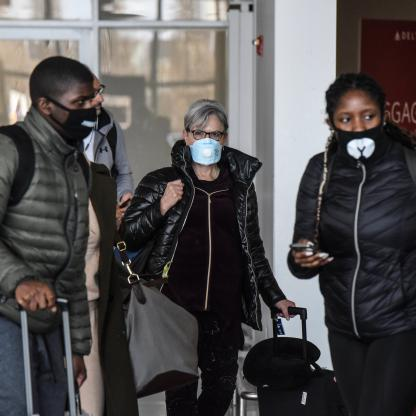Wearing_Mask: (40, 71, 101, 149), (324, 96, 388, 166), (186, 115, 228, 174)
